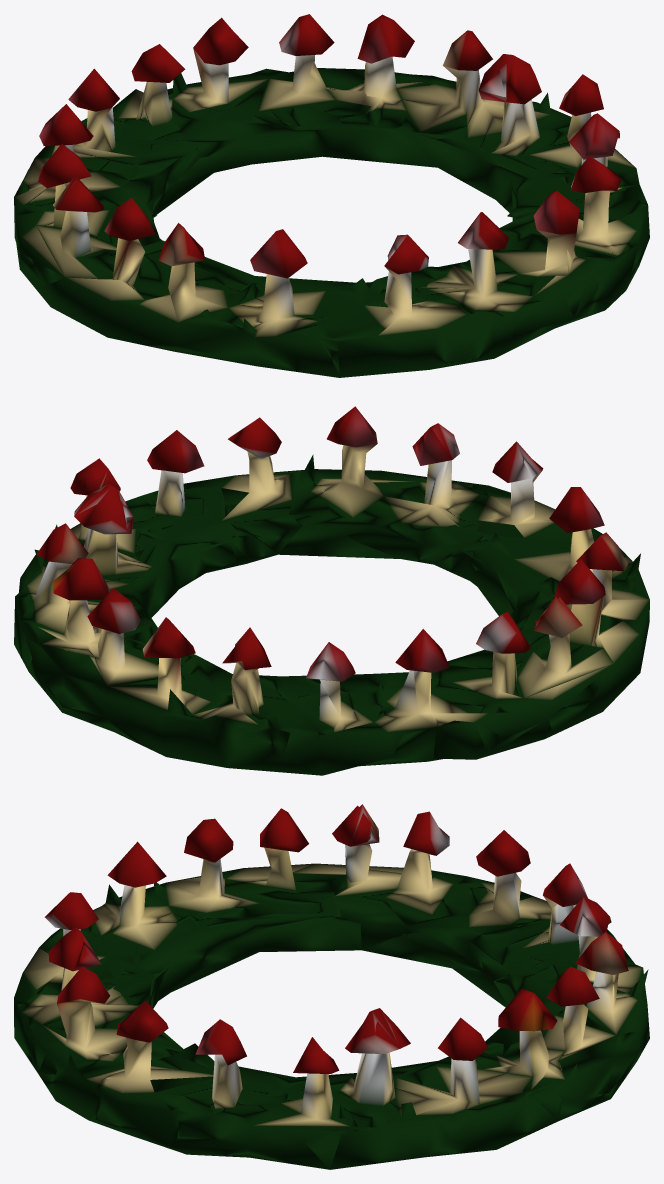
Rendered from gen3d-forest-mushroom-ring-lod1.glb.
The picture shows the model from 3 angles, top to bottom: view 1: azimuth 30°, elevation 25°; view 2: azimuth 150°, elevation 25°; view 3: azimuth 270°, elevation 25°; orthographic projection.
Parts seen in each view (by area): view 1: part_0; view 2: part_0; view 3: part_0.
Boxes of the visible parts, bbox=[...] form: part_0: bbox=[14, 14, 649, 377]; part_0: bbox=[14, 406, 649, 775]; part_0: bbox=[14, 804, 649, 1169].
Bounding box in the file's own units: 4.64 × 0.9991 × 4.64.
